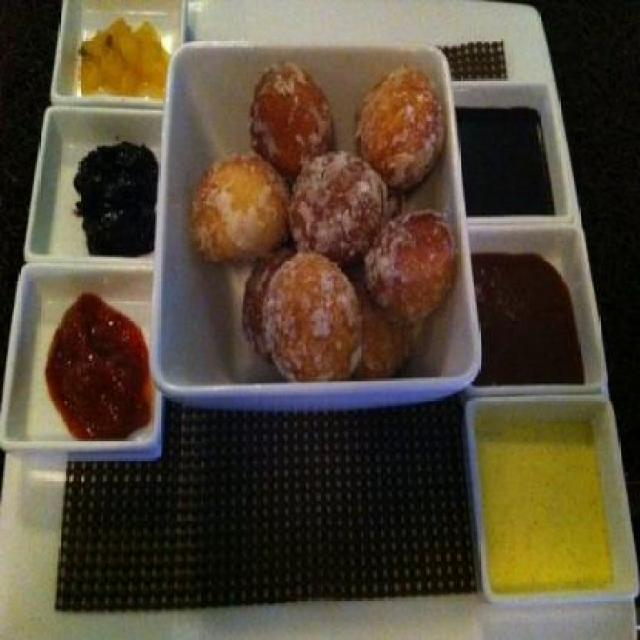Donuts: (182, 53, 470, 387)
